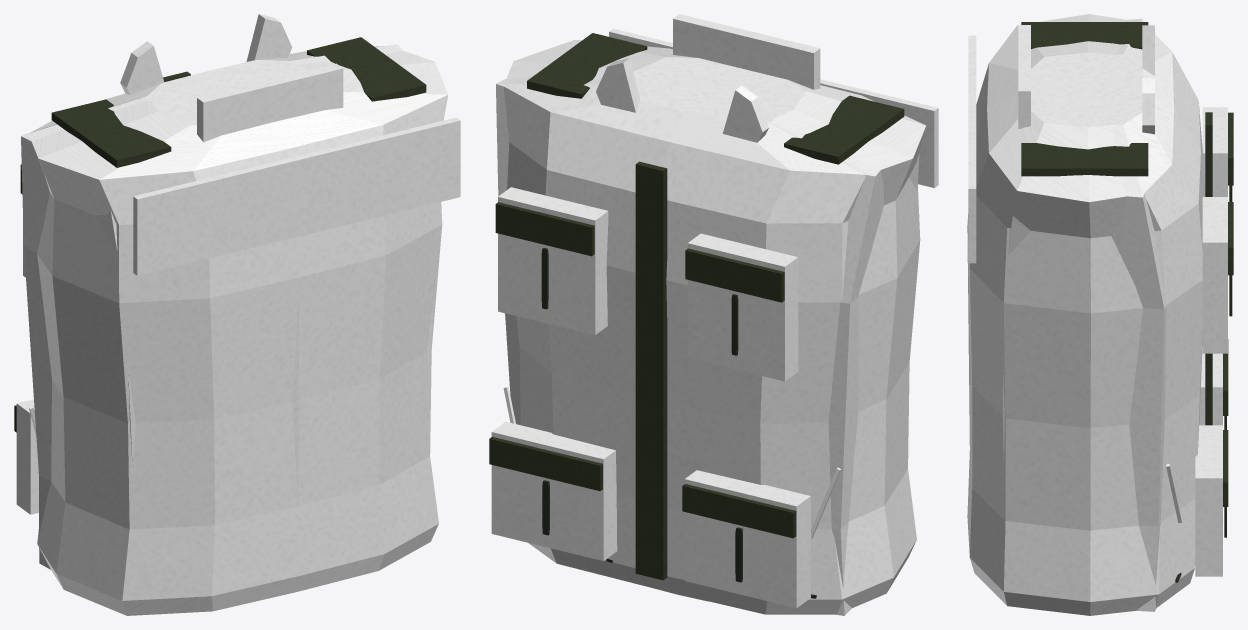
File: jacket_afghanka.glb
The picture shows the model from 3 angles, left to right: view 1: azimuth 30°, elevation 25°; view 2: azimuth 150°, elevation 25°; view 3: azimuth 270°, elevation 25°; orthographic projection. The views are drawn at different scales.
Parts seen in each view (by area): view 1: jacket_afghanka_torso_LOD0_RAID_cloth.001, jacket_afghanka_torso_LOD1_RAID_cloth.001, jacket_afghanka_torso_LOD0_RAID_reinforce.001, jacket_afghanka_torso_LOD1_RAID_reinforce.001; view 2: jacket_afghanka_torso_LOD0_RAID_cloth.001, jacket_afghanka_torso_LOD1_RAID_cloth.001, jacket_afghanka_torso_LOD1_RAID_reinforce.001, jacket_afghanka_torso_LOD0_RAID_reinforce.001, jacket_afghanka_torso_LOD0_RAID_seam.001; view 3: jacket_afghanka_torso_LOD0_RAID_cloth.001, jacket_afghanka_torso_LOD1_RAID_cloth.001, jacket_afghanka_torso_LOD0_RAID_reinforce.001, jacket_afghanka_torso_LOD1_RAID_reinforce.001, jacket_afghanka_torso_LOD0_RAID_seam.001.
Part boxes in pixels (x1=…): jacket_afghanka_torso_LOD0_RAID_cloth.001: x1=16, y1=14, x2=460, y2=615; jacket_afghanka_torso_LOD1_RAID_cloth.001: x1=16, y1=44, x2=460, y2=569; jacket_afghanka_torso_LOD0_RAID_reinforce.001: x1=14, y1=38, x2=420, y2=428; jacket_afghanka_torso_LOD1_RAID_reinforce.001: x1=14, y1=37, x2=426, y2=432; jacket_afghanka_torso_LOD0_RAID_cloth.001: x1=491, y1=17, x2=938, y2=614; jacket_afghanka_torso_LOD1_RAID_cloth.001: x1=491, y1=14, x2=938, y2=615; jacket_afghanka_torso_LOD1_RAID_reinforce.001: x1=489, y1=33, x2=904, y2=580; jacket_afghanka_torso_LOD0_RAID_reinforce.001: x1=489, y1=34, x2=898, y2=577; jacket_afghanka_torso_LOD0_RAID_seam.001: x1=541, y1=248, x2=816, y2=598; jacket_afghanka_torso_LOD0_RAID_cloth.001: x1=967, y1=14, x2=1227, y2=615; jacket_afghanka_torso_LOD1_RAID_cloth.001: x1=967, y1=18, x2=1227, y2=611; jacket_afghanka_torso_LOD0_RAID_reinforce.001: x1=1021, y1=22, x2=1233, y2=503; jacket_afghanka_torso_LOD1_RAID_reinforce.001: x1=1021, y1=22, x2=1233, y2=506; jacket_afghanka_torso_LOD0_RAID_seam.001: x1=1175, y1=185, x2=1232, y2=582.
Bounding box in the file's own units: 0.4882 × 0.6041 × 0.2916.
3 materials, 3 textured.
